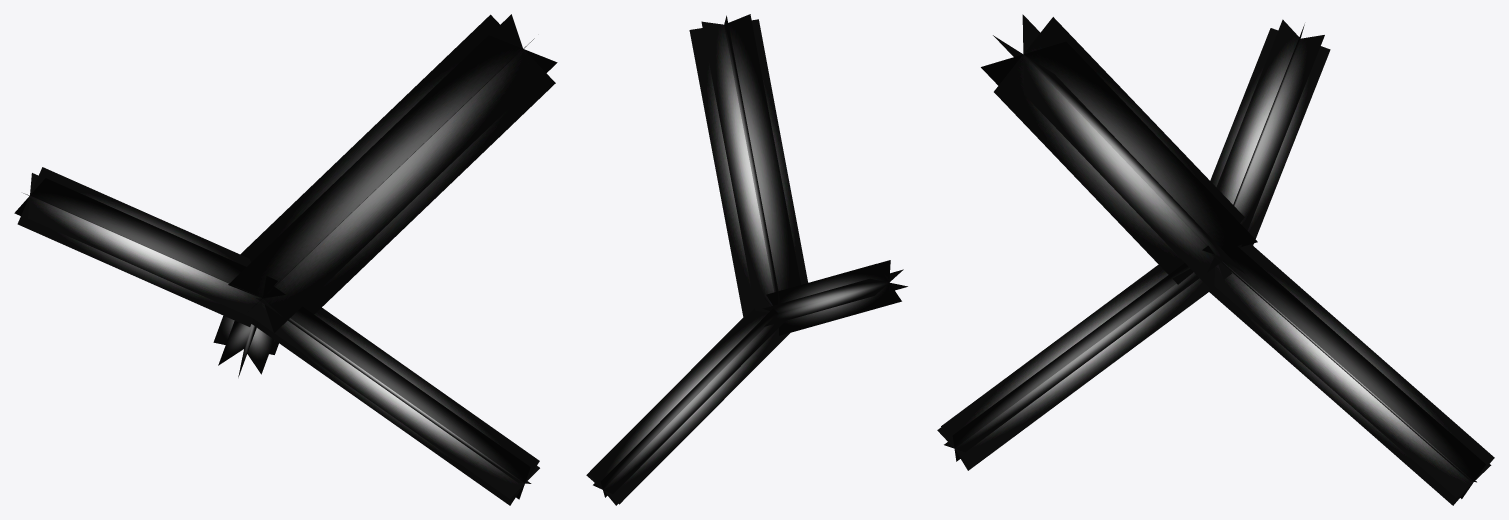
File: vfx_kurp_0403.dae
3 views of the same model, side by side, from view 1: azimuth 30°, elevation 25°; view 2: azimuth 150°, elevation 25°; view 3: azimuth 270°, elevation 25° (orthographic). The views are drawn at different scales.
Visible parts, largest first — view 1: vfx_kurp_0403; view 2: vfx_kurp_0403; view 3: vfx_kurp_0403.
Boxes of the visible parts, x1,y1,x2,y2 form: vfx_kurp_0403: [14, 14, 557, 505]; vfx_kurp_0403: [586, 14, 907, 505]; vfx_kurp_0403: [937, 14, 1494, 505].
Bounding box in the file's own units: 7.48 × 8.69 × 8.75.
1 material, 1 textured.
